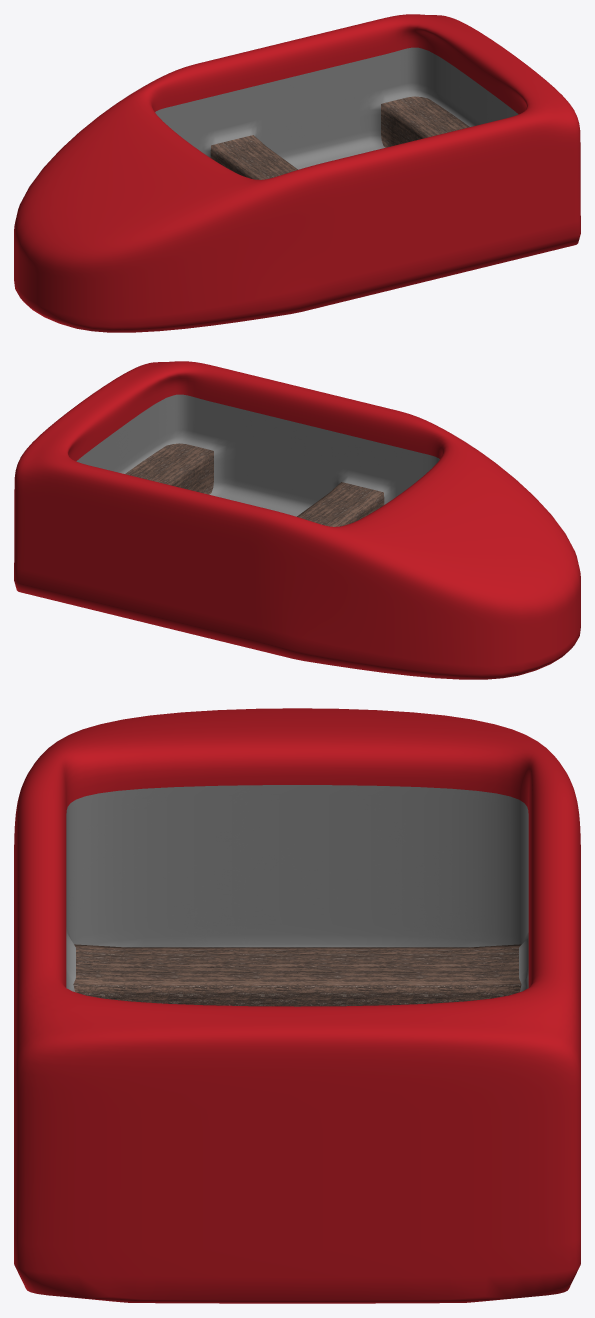
The model's file is Car.fbx.
The picture shows the model from 3 angles, top to bottom: view 1: azimuth 30°, elevation 25°; view 2: azimuth 150°, elevation 25°; view 3: azimuth 270°, elevation 25°; orthographic projection. The views are drawn at different scales.
Parts seen in each view (by area): view 1: Car; view 2: Car; view 3: Car.
Part boxes in pixels (x1,y1,x2,y2): Car: [14, 14, 580, 332]; Car: [14, 361, 580, 679]; Car: [14, 708, 580, 1303].
Size of the model in its own units: 361 by 99.71 by 188.
